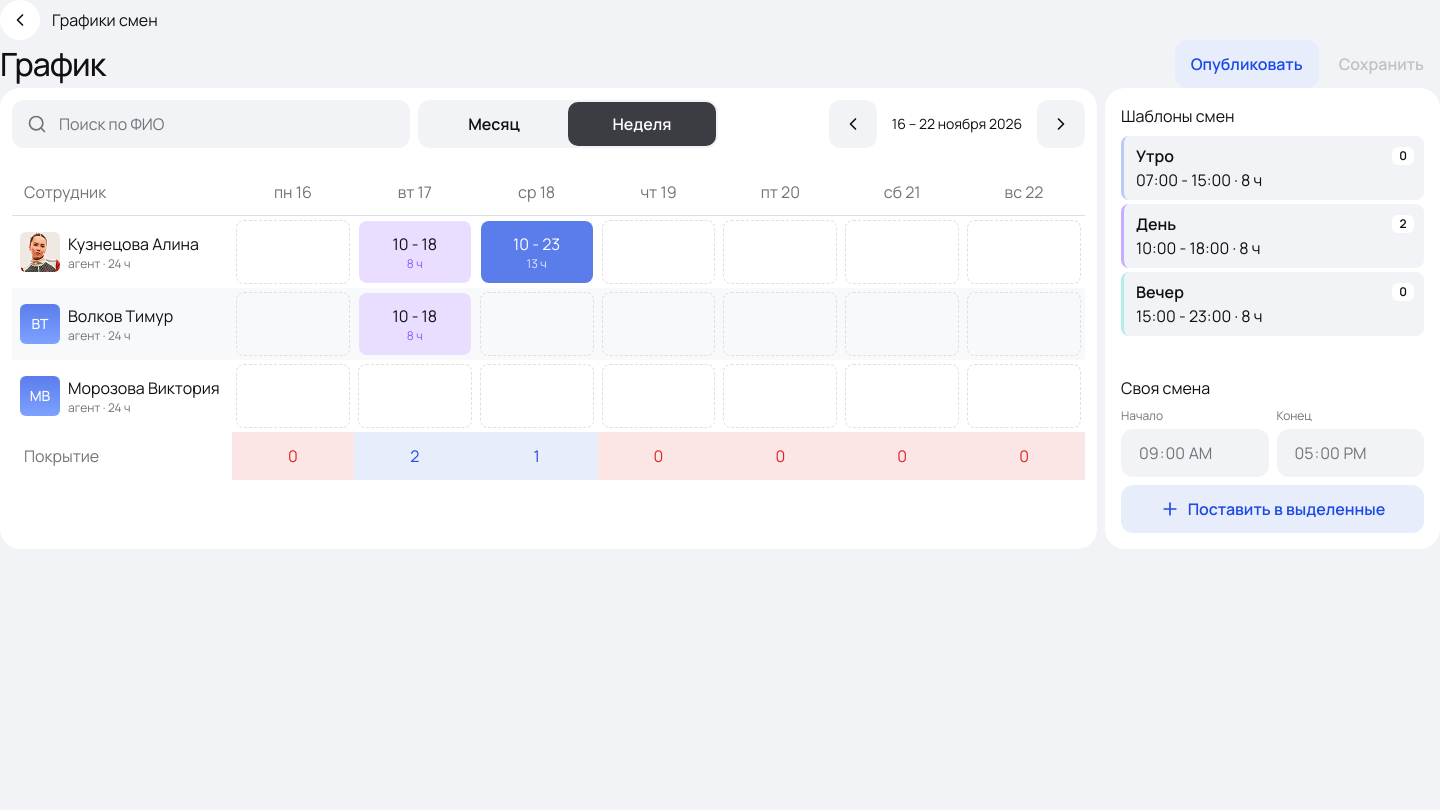
Test: SchedulePage: назначение смен › быстрое назначение ставит смену всем сотрудникам, даже когда поиск сузил список (PLAN §10.1)
Expected: the table is shown, [12, 168, 1085, 537]
In the field labelled "Поиск по ФИО": (227, 124) [59, 112, 395, 136], type "Волков"
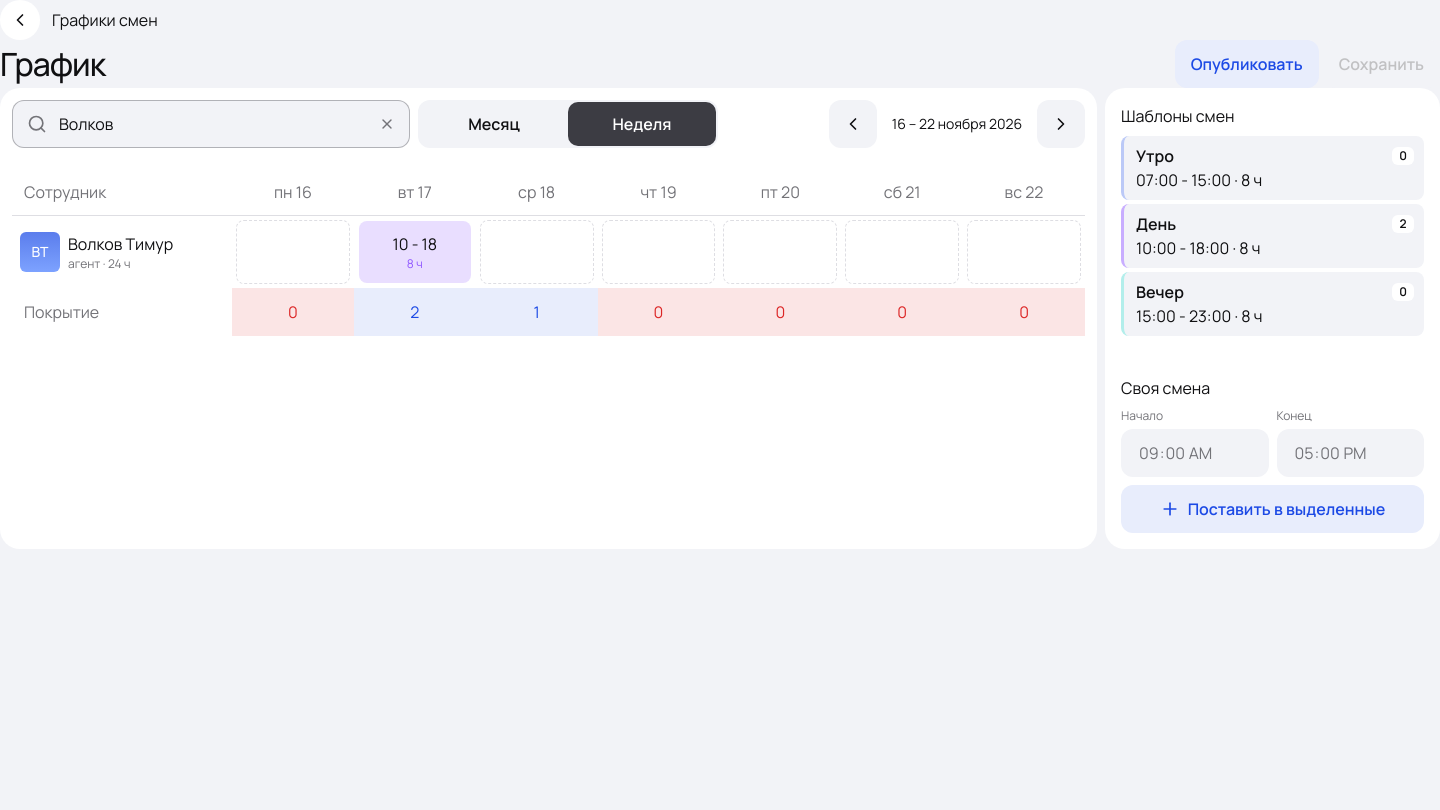
Now the text "Кузнецова Алина" is gone
Click the button with aria-label "Быстро назначить смену на 2026-11-20": (780, 192) [753, 176, 808, 208]
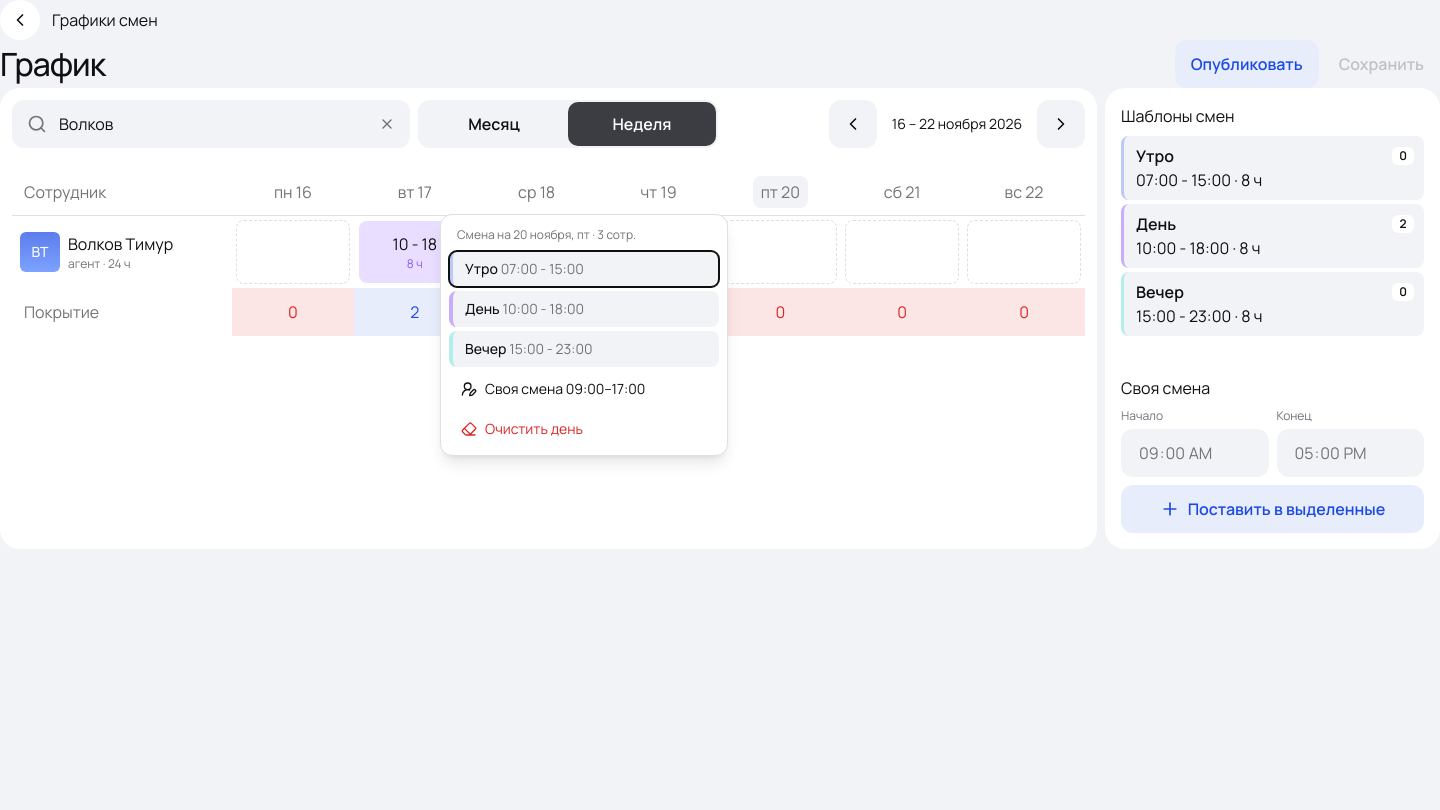
Click the button "День 10:00 - 18:00": (584, 309) [449, 291, 719, 327]
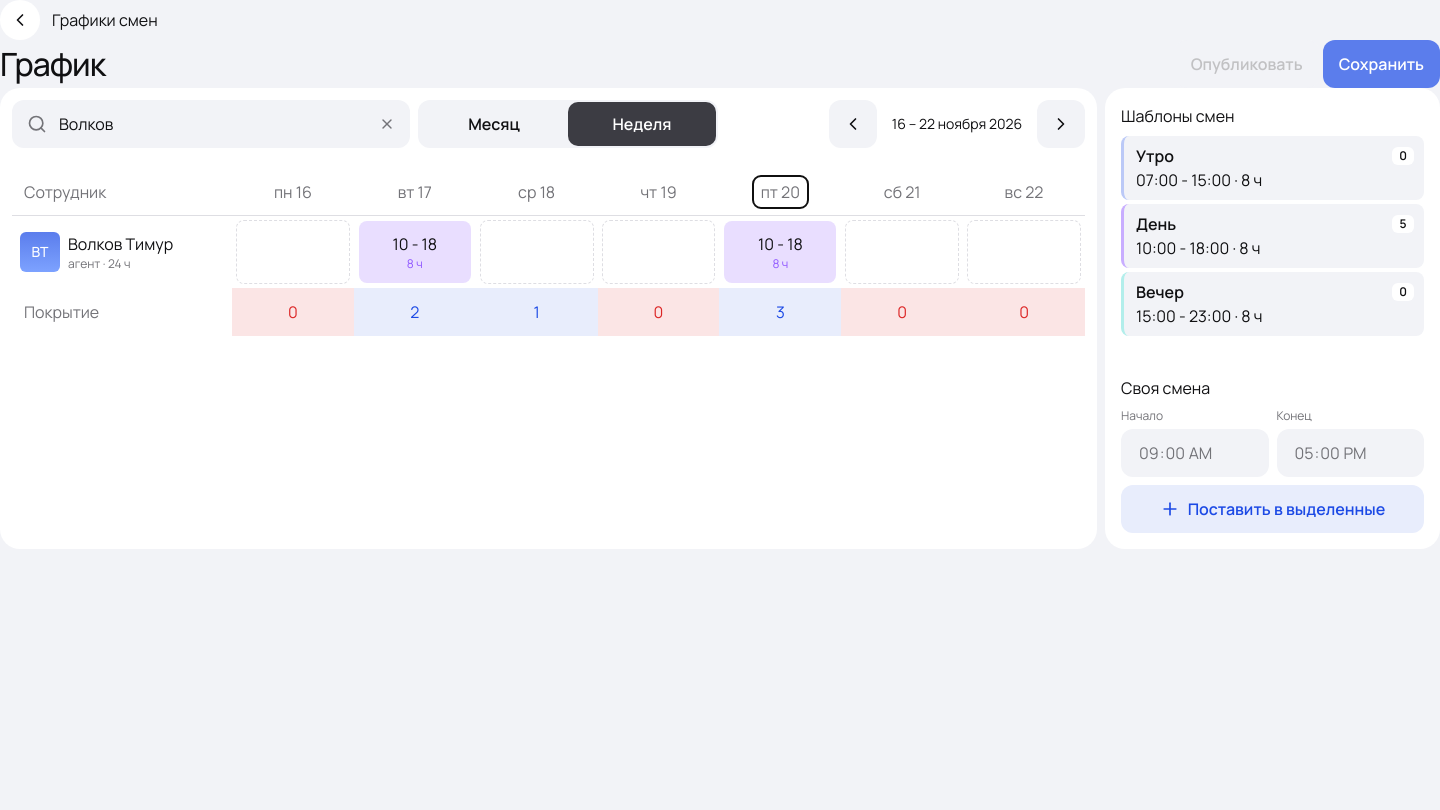
Now the 2nd text "10 - 18" is shown, box [758, 232, 803, 256]
Now the cell named "Покрытие 2026-11-20: 3" is shown, box [719, 288, 841, 336]
Clear the field named "Поиск по ФИО": (213, 124) [59, 112, 367, 136]
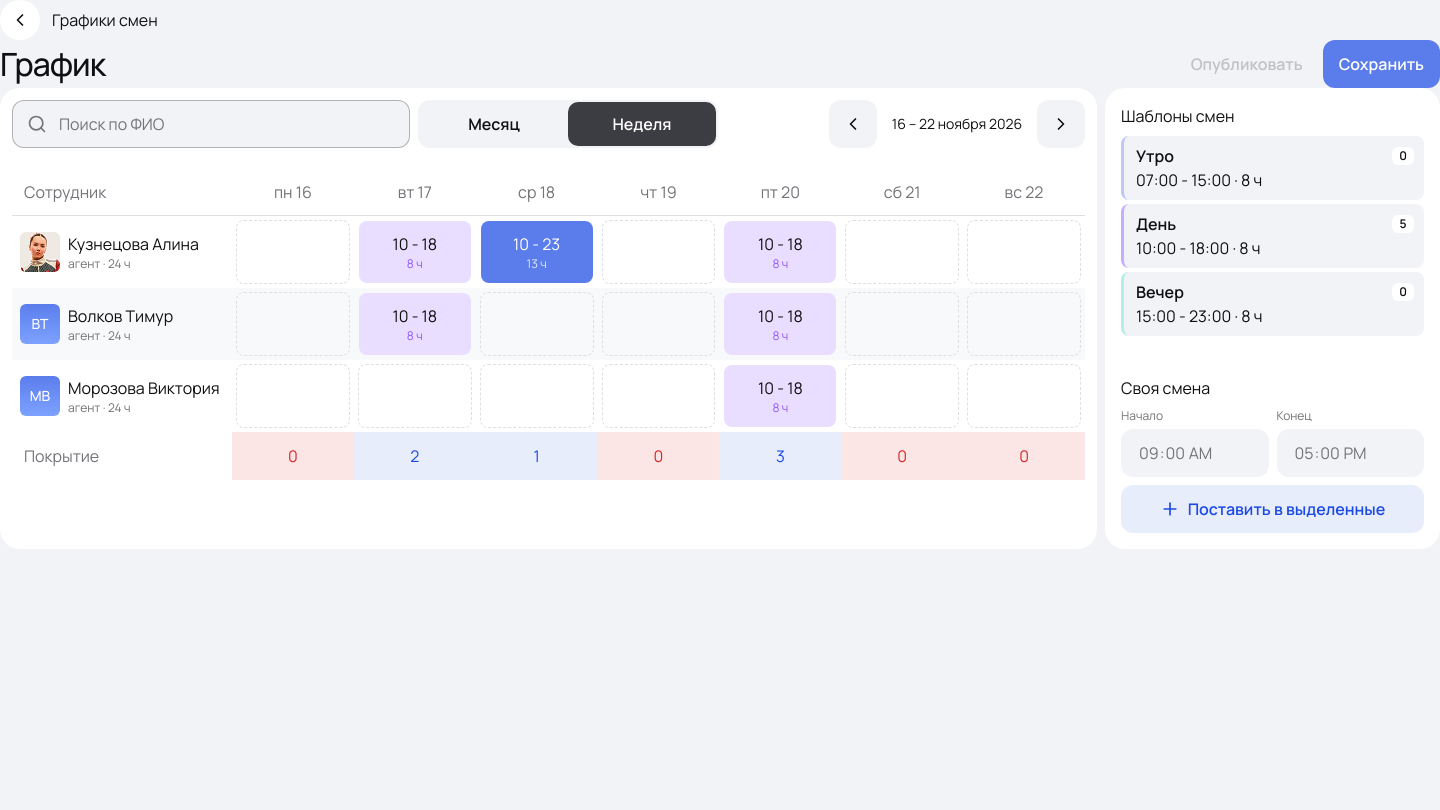
Now the text "Кузнецова Алина" is shown, box [68, 232, 199, 256]
Now the 5th text "10 - 18" is shown, box [758, 376, 803, 400]
